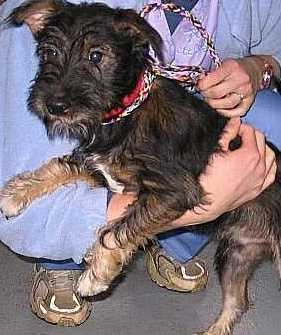dog: (5, 0, 281, 264)
